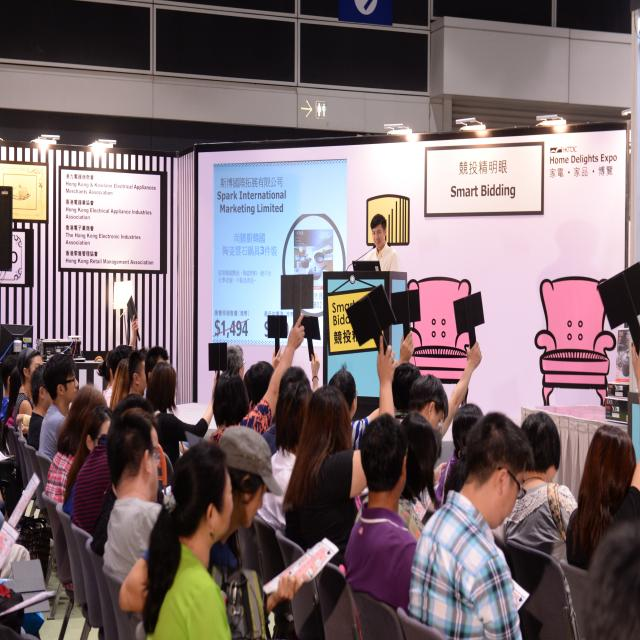body: (116, 423, 311, 618), (406, 410, 529, 640), (144, 441, 234, 638), (565, 339, 640, 572), (502, 411, 578, 609), (343, 413, 417, 616), (207, 311, 306, 453), (70, 392, 158, 544), (89, 406, 169, 558), (354, 411, 444, 543), (251, 376, 322, 536), (101, 410, 164, 585), (326, 330, 415, 450), (392, 341, 483, 438), (144, 360, 218, 470), (45, 383, 109, 508), (581, 521, 640, 640), (406, 372, 448, 524), (432, 403, 484, 513), (0, 491, 35, 640), (326, 361, 380, 452), (261, 364, 313, 458), (37, 351, 80, 463), (242, 352, 320, 412), (97, 314, 139, 400), (13, 346, 44, 434), (110, 344, 149, 411), (27, 363, 54, 451), (364, 213, 399, 272), (27, 364, 50, 452), (140, 344, 172, 403), (0, 354, 20, 424), (227, 344, 246, 382)
